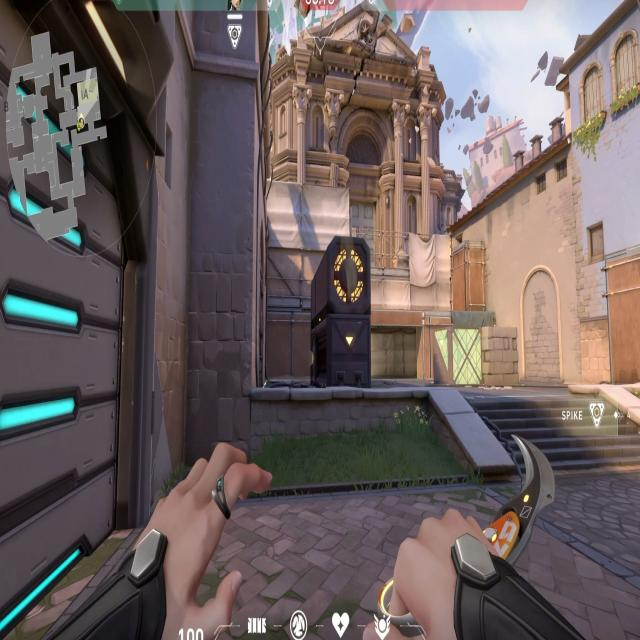A_Heaven_Box: (447, 240, 489, 316)
A_Heaven_Wall: (266, 176, 354, 313)
A_Hell: (369, 320, 436, 378)
A_Site_Box: (432, 325, 522, 392)
